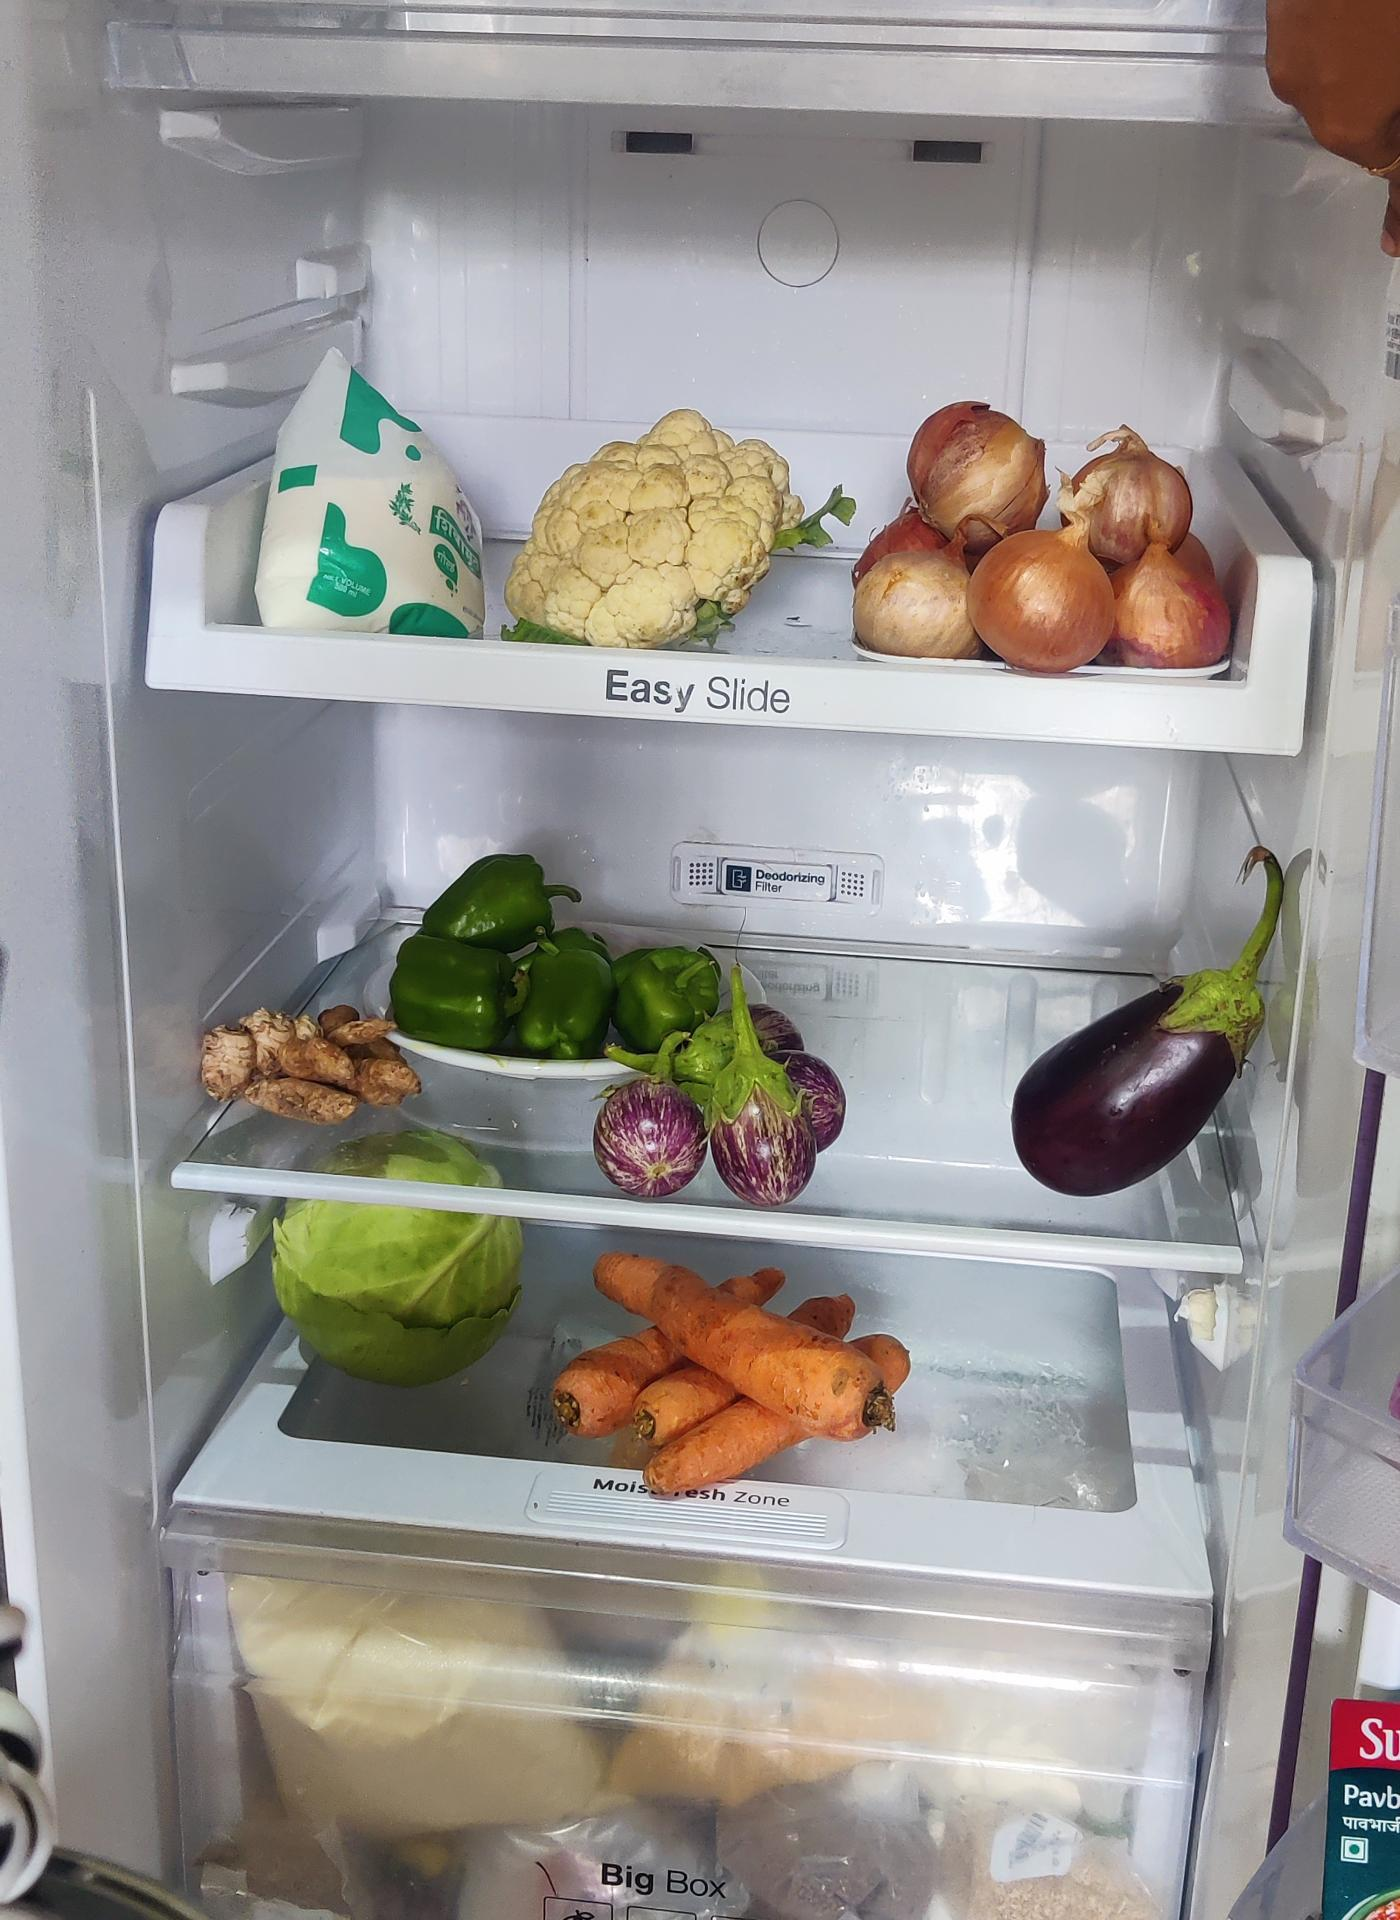brinjal: (595, 1005, 833, 1213)
cabbage: (277, 1173, 531, 1374)
capsicum: (407, 851, 737, 1046)
carrots: (529, 1225, 914, 1503)
cauliflower: (510, 410, 805, 647)
ginger: (183, 990, 419, 1127)
milk: (1003, 832, 1285, 1194), (267, 347, 482, 644)
onion: (856, 391, 1232, 683)
